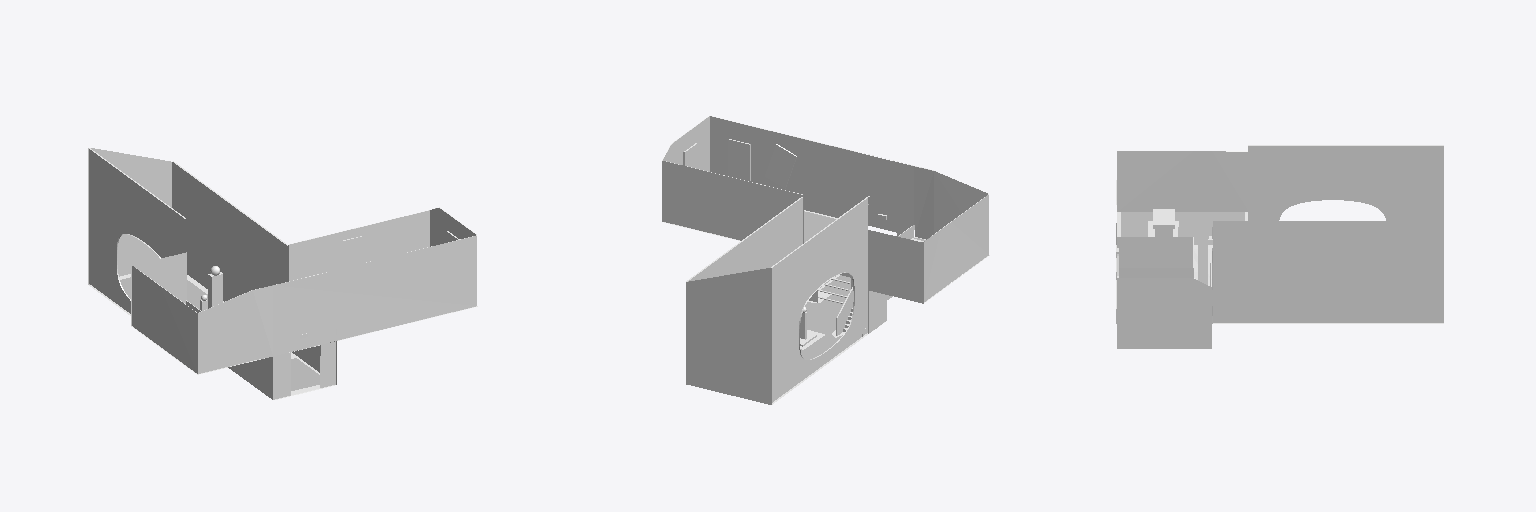
The model's file is hall.obj.
3 views of the same model, side by side, from view 1: azimuth 30°, elevation 25°; view 2: azimuth 150°, elevation 25°; view 3: azimuth 270°, elevation 25° (orthographic).
Visible parts, largest first — view 1: Plane, Plane.003_Plane.004, floor-col_Plane.002, Statue_Cube.024, cuadro1_Cube.030; view 2: Plane, Plane.003_Plane.004, floor-col_Plane.002, cuadro3.001_Cube.028, cuadro2_Cube.027; view 3: Plane.003_Plane.004, Plane, floor-col_Plane.002, stad_Plane.007.
Boxes of the visible parts, <box> form: Plane: <box>131,207,477,399</box>; Plane.003_Plane.004: <box>88,148,287,315</box>; floor-col_Plane.002: <box>120,277,319,390</box>; Statue_Cube.024: <box>200,266,222,310</box>; cuadro1_Cube.030: <box>343,236,361,267</box>; Plane: <box>662,116,989,333</box>; Plane.003_Plane.004: <box>686,196,884,404</box>; floor-col_Plane.002: <box>800,211,925,359</box>; cuadro3.001_Cube.028: <box>728,139,750,180</box>; cuadro2_Cube.027: <box>765,144,796,188</box>; Plane.003_Plane.004: <box>1213,145,1443,323</box>; Plane: <box>1116,151,1247,348</box>; floor-col_Plane.002: <box>1121,212,1244,284</box>; stad_Plane.007: <box>1153,209,1174,236</box>.
Bounding box in the file's own units: 54.57 × 25.7 × 55.35.